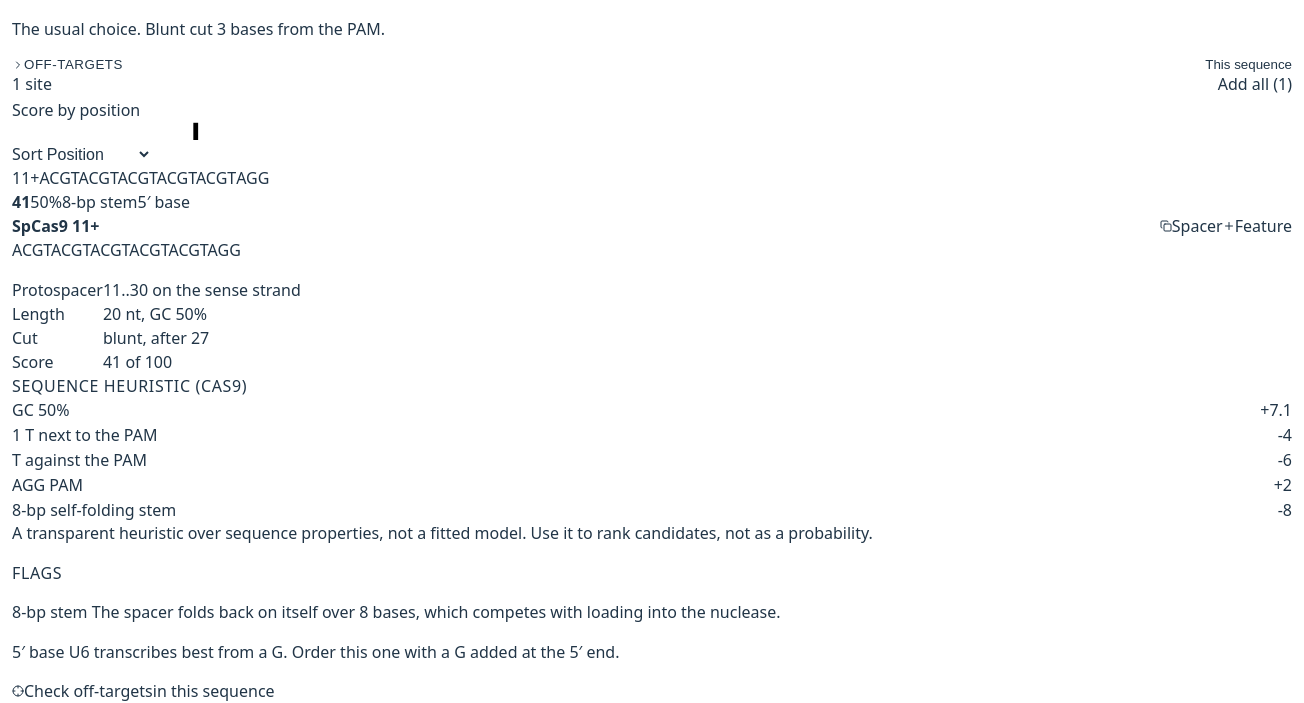
Scenario: GuidePanel off-targets › puts the specificity on the row once it is known
This screenshot has width=1304, height=703.
(page scrolled)
Click the button "Check off-targets".
click(82, 691)  # box [12, 680, 153, 702]
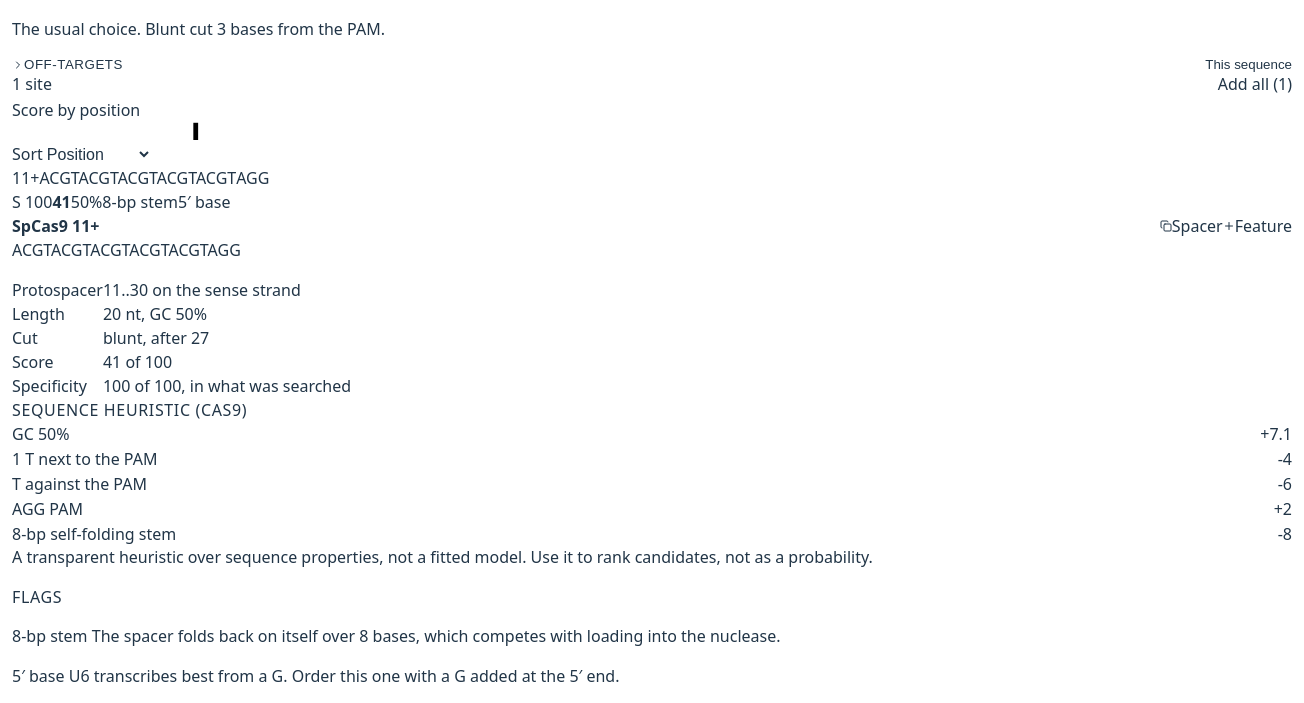
Check: the text "S 100" is shown, box [12, 190, 52, 214]
